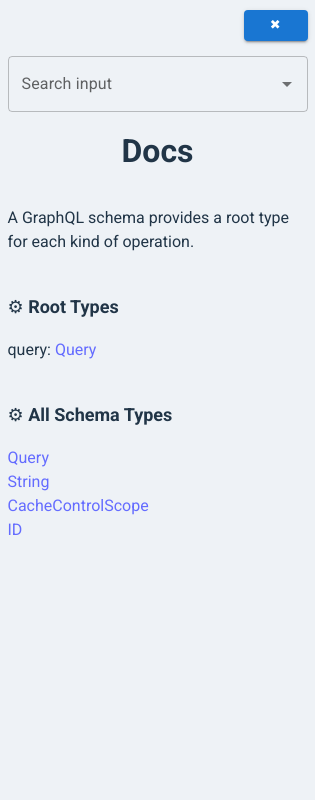
SchemaContainer test › should open a new page by clicking on the type
expect the heading "Docs" is shown: met, box [122, 132, 194, 170]
Step 1. Click the link "Query" next to "query:" → coordinates (76, 349), box [55, 340, 96, 359]
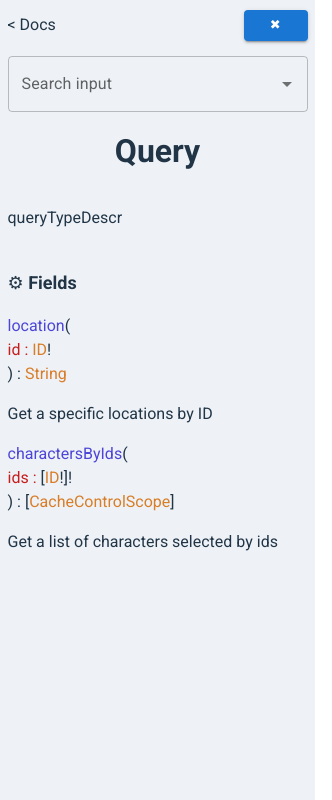
expect the heading "Query" is shown: met, box [115, 132, 200, 170]
